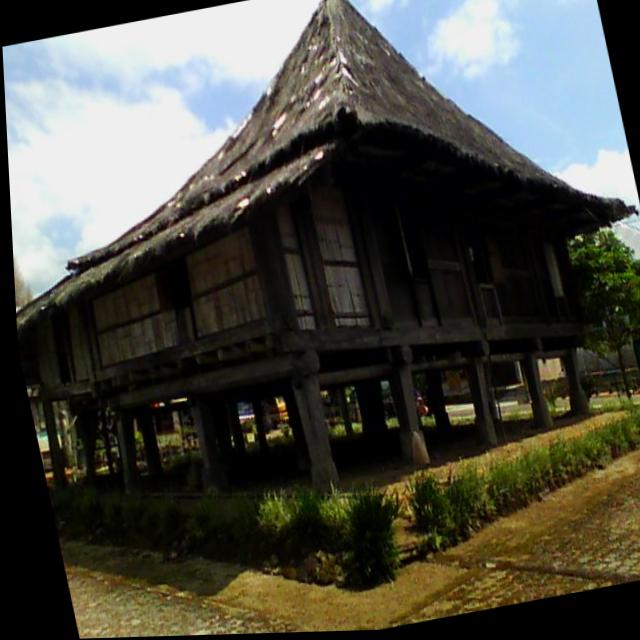Atap: (16, 0, 639, 350)
Kolom: (426, 371, 450, 427), (227, 407, 246, 457)
Tembok Bangunan: (36, 157, 585, 409)
